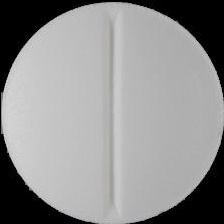0143-1202: (0, 0, 224, 224)
